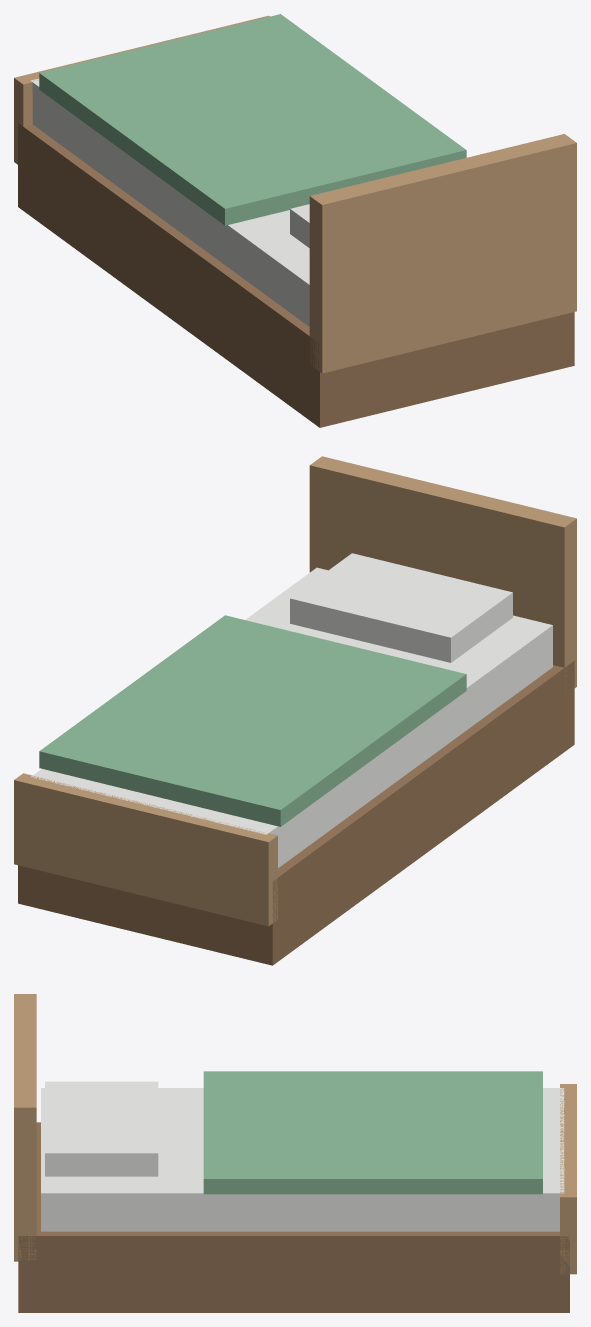
File: single_bed.glb
3 renders of one model, top to bottom at view 1: azimuth 30°, elevation 25°; view 2: azimuth 150°, elevation 25°; view 3: azimuth 270°, elevation 25°, orthographic. The views are drawn at different scales.
Parts seen in each view (by area): view 1: single_bed; view 2: single_bed; view 3: single_bed.
Part boxes in pixels (x1,y1,x2,y2): single_bed: (14, 14, 576, 427); single_bed: (14, 456, 576, 965); single_bed: (14, 994, 576, 1312).
Size of the model in its own units: 0.95 by 0.8 by 1.99.
